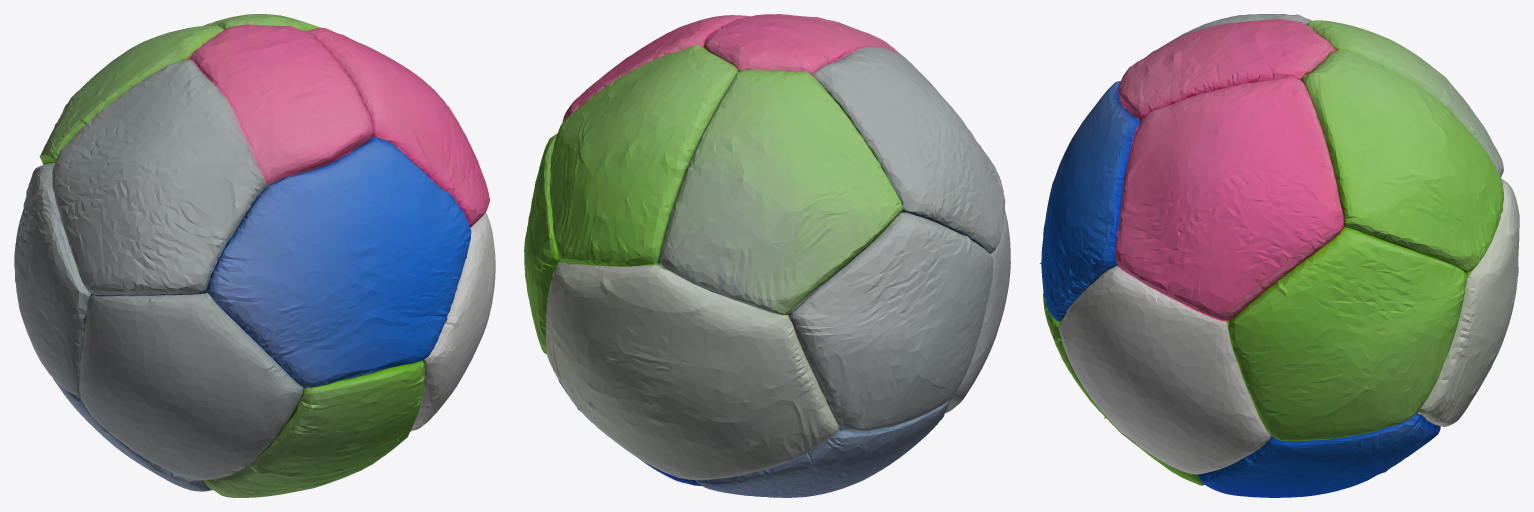
File: toy_4.glb
3 renders of one model, left to right at view 1: azimuth 30°, elevation 25°; view 2: azimuth 150°, elevation 25°; view 3: azimuth 270°, elevation 25°, orthographic.
Visible parts, largest first — view 1: tripo_node_b0e8f1aa-4cf4-4db0-a095-fbfc5235a959; view 2: tripo_node_b0e8f1aa-4cf4-4db0-a095-fbfc5235a959; view 3: tripo_node_b0e8f1aa-4cf4-4db0-a095-fbfc5235a959.
Part boxes in pixels (bbox=[...]): tripo_node_b0e8f1aa-4cf4-4db0-a095-fbfc5235a959: bbox=[14, 14, 495, 497]; tripo_node_b0e8f1aa-4cf4-4db0-a095-fbfc5235a959: bbox=[524, 14, 1010, 497]; tripo_node_b0e8f1aa-4cf4-4db0-a095-fbfc5235a959: bbox=[1039, 14, 1519, 497].
Bounding box in the file's own units: 0.9978 × 0.9988 × 1.
1 material, 1 textured.
